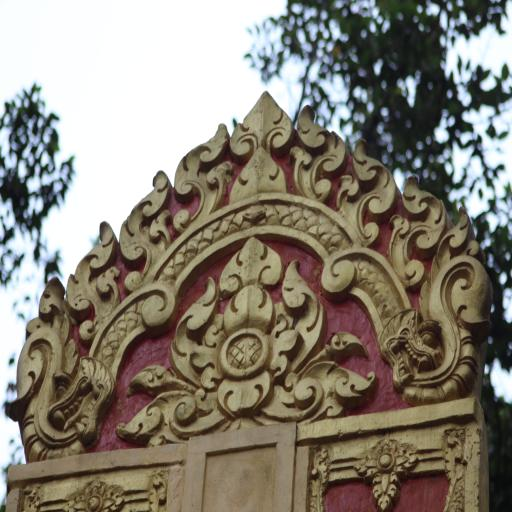hoa: (206, 286, 290, 412)
la: (126, 365, 364, 433), (2, 287, 74, 460), (430, 223, 490, 393), (166, 117, 232, 234), (120, 159, 177, 287), (232, 93, 293, 196), (343, 138, 392, 244), (73, 222, 116, 340), (278, 260, 324, 366), (171, 277, 217, 382), (397, 171, 439, 286), (298, 109, 336, 209), (221, 241, 287, 291), (362, 442, 408, 508)
ran: (374, 306, 448, 389), (54, 357, 113, 443)
